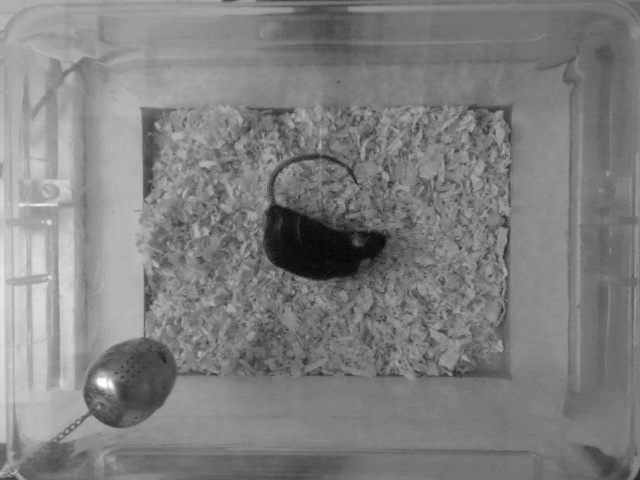mice: (257, 150, 394, 283)
